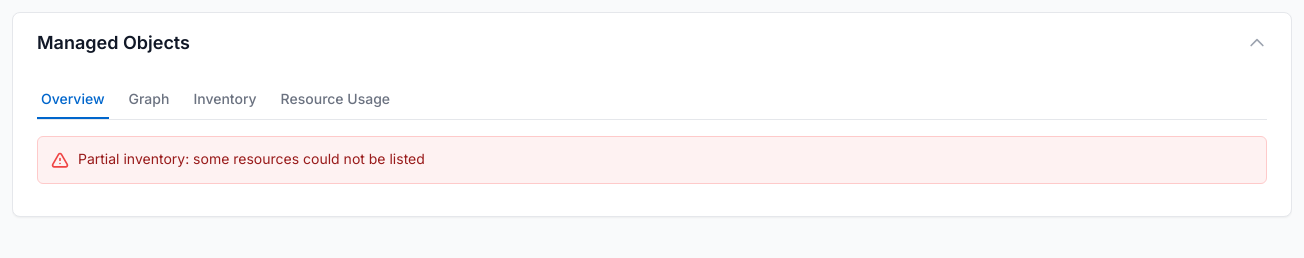
Test: ManagedObjectsPanel component › inventoryError › should display error banner alongside inventory data in inventory tab
Expected: the element with test id "inventory-error" is shown, [37, 136, 1267, 184]
Switch to inventory tab
Click the button "Inventory".
click(225, 100)  # box [189, 81, 261, 119]
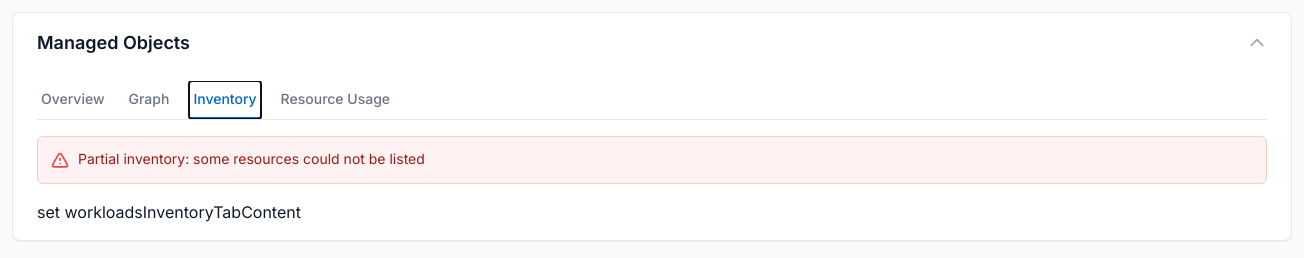
Expected: the element with test id "inventory-error" is shown, [37, 136, 1267, 184]
Result: the element with test id "inventory-tab-content" is shown at [37, 200, 301, 224]
